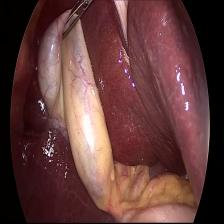Grasper: (61, 0, 93, 39)
